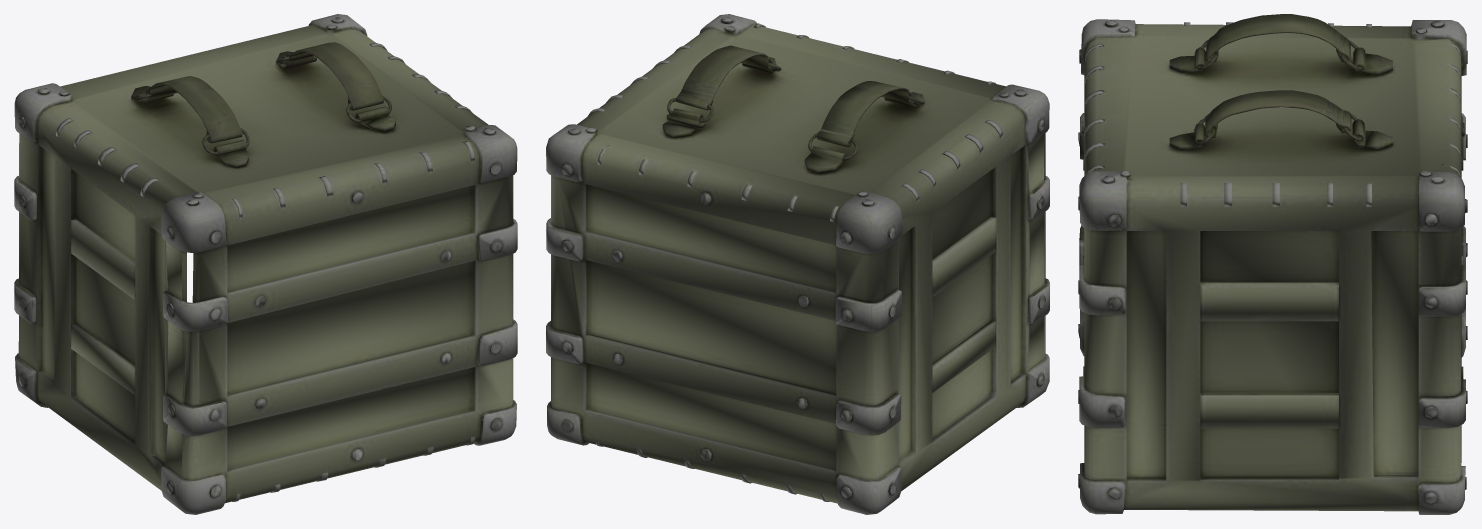
File: crate.glb
3 views of the same model, side by side, from view 1: azimuth 30°, elevation 25°; view 2: azimuth 150°, elevation 25°; view 3: azimuth 270°, elevation 25° (orthographic). The views are drawn at different scales.
Parts seen in each view (by area): view 1: body; view 2: body; view 3: body.
Part boxes in pixels (left/top/right/bottom): body: left=14, top=14, right=517, bottom=514; body: left=546, top=14, right=1049, bottom=514; body: left=1078, top=14, right=1467, bottom=514.
Size of the model in its own units: 0.8783 by 0.8542 by 0.8061.
1 material, 1 textured.
